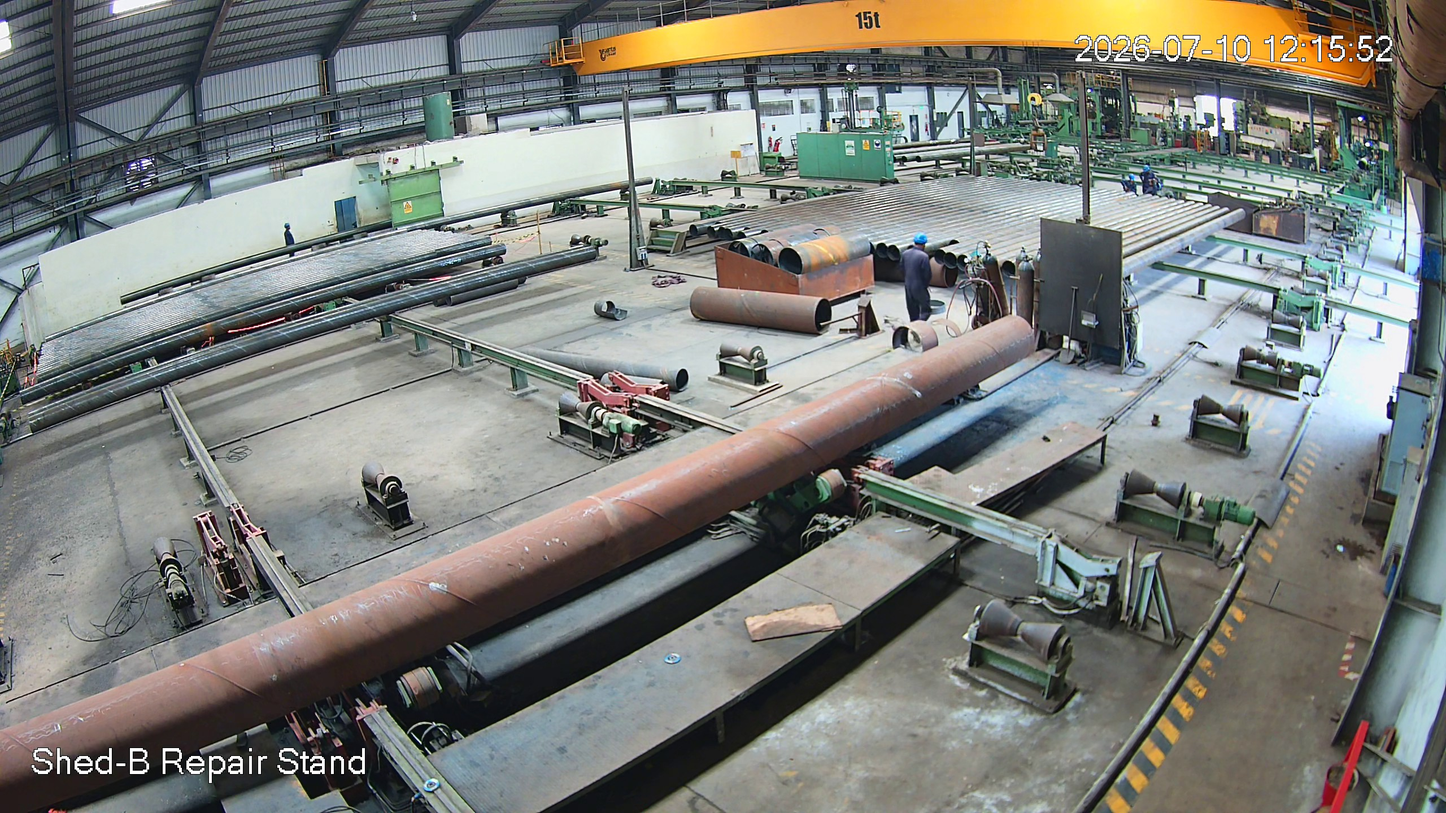Helmet: (910, 231, 931, 263)
Person: (901, 232, 934, 334)
